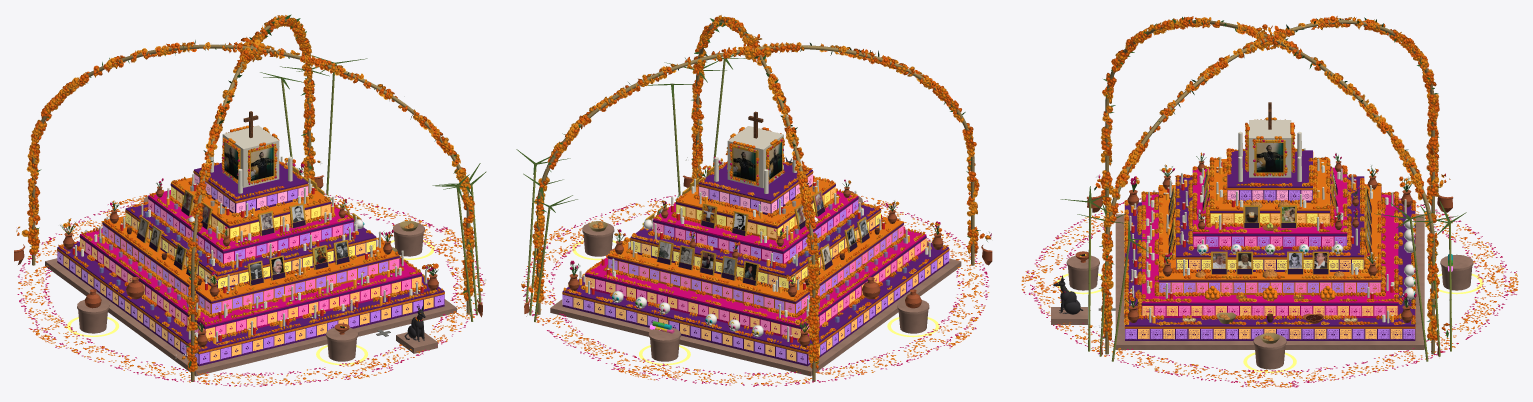
File: ofrenda.glb
3 views of the same model, side by side, from view 1: azimuth 30°, elevation 25°; view 2: azimuth 150°, elevation 25°; view 3: azimuth 270°, elevation 25° (orthographic). The views are drawn at different scales.
Parts seen in each view (by area): view 1: Ofrenda de los Cuatro Rumbos; view 2: Ofrenda de los Cuatro Rumbos; view 3: Ofrenda de los Cuatro Rumbos.
Boxes of the visible parts, <box> form: Ofrenda de los Cuatro Rumbos: <box>14,14,486,386</box>; Ofrenda de los Cuatro Rumbos: <box>516,15,992,386</box>; Ofrenda de los Cuatro Rumbos: <box>1021,16,1518,387</box>.
Bounding box in the file's own units: 0.7489 × 0.4347 × 0.7497.
Materials: 78 (33 with a texture image).
